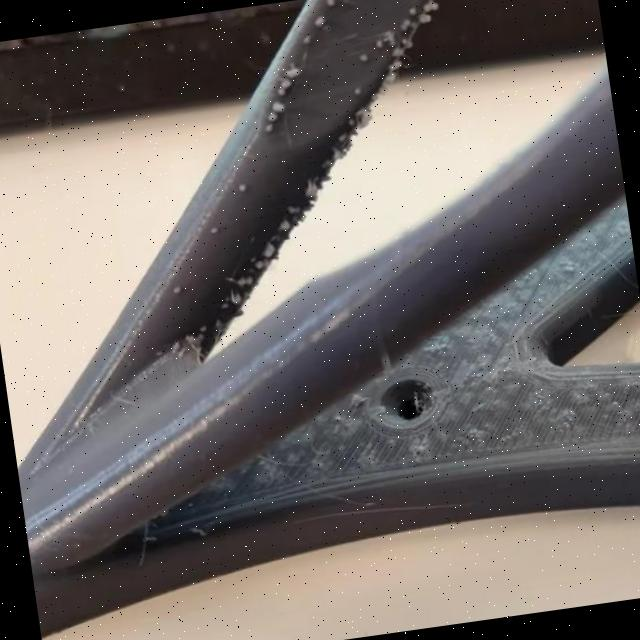blobs: (204, 215, 227, 242), (280, 60, 302, 84), (308, 12, 332, 32), (274, 214, 298, 234), (412, 9, 438, 27), (270, 80, 294, 98), (300, 181, 322, 200), (384, 57, 407, 75), (260, 240, 279, 261), (236, 270, 255, 290), (358, 48, 376, 68), (166, 280, 184, 299), (270, 97, 290, 114), (234, 178, 254, 195), (261, 120, 278, 138), (228, 292, 243, 310), (406, 1, 422, 16), (253, 256, 266, 274), (349, 85, 367, 96), (326, 0, 343, 11), (300, 30, 314, 42), (266, 114, 282, 124)
